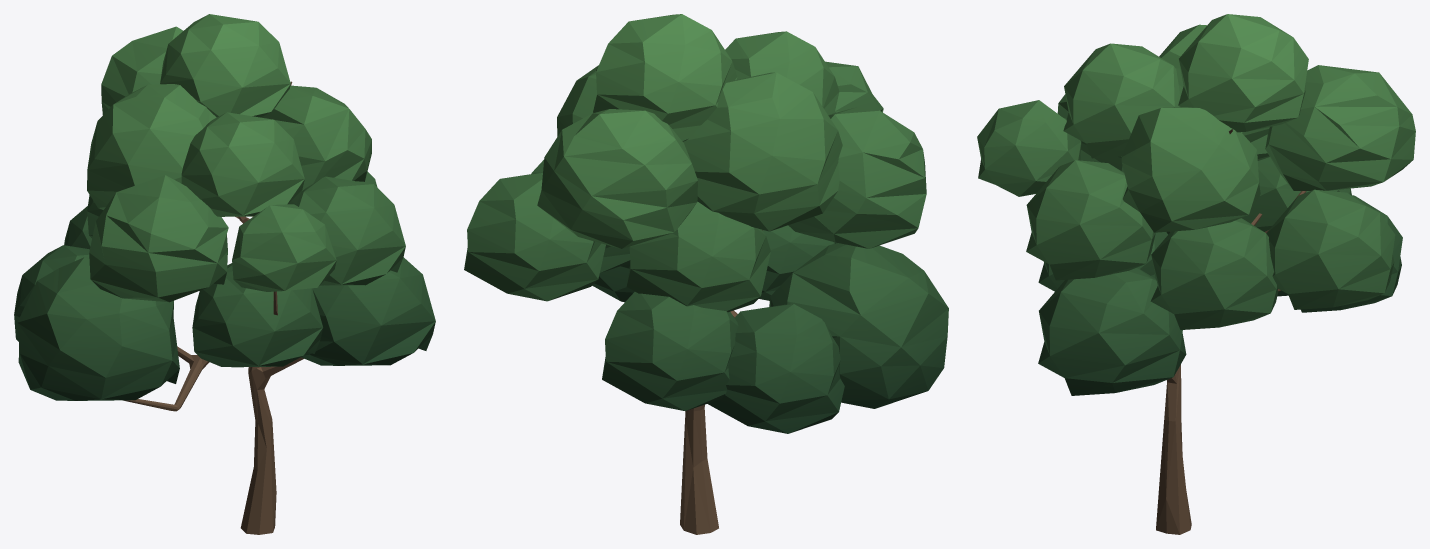
The model's file is lp_tree_04.glb.
The picture shows the model from 3 angles, left to right: view 1: azimuth 30°, elevation 25°; view 2: azimuth 150°, elevation 25°; view 3: azimuth 270°, elevation 25°; orthographic projection. The views are drawn at different scales.
Parts seen in each view (by area): view 1: oak_tree; view 2: oak_tree; view 3: oak_tree.
Part boxes in pixels (left/top/right/bottom): oak_tree: left=14, top=14, right=435, bottom=534; oak_tree: left=464, top=14, right=948, bottom=534; oak_tree: left=977, top=14, right=1415, bottom=534.
Size of the model in its own units: 6.08 by 7.93 by 6.2.
